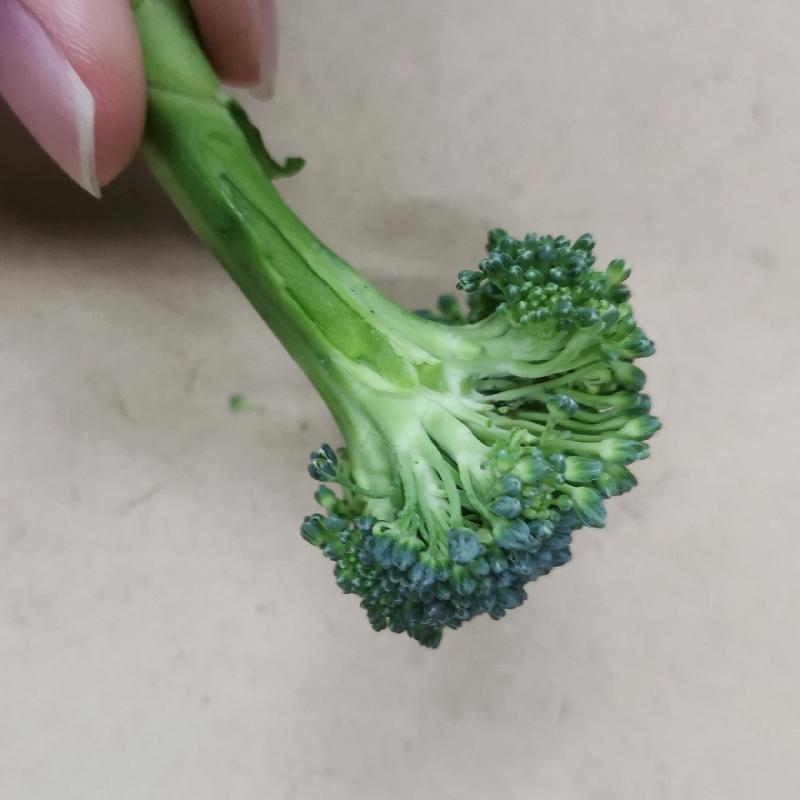broccoli: (91, 2, 660, 651)
